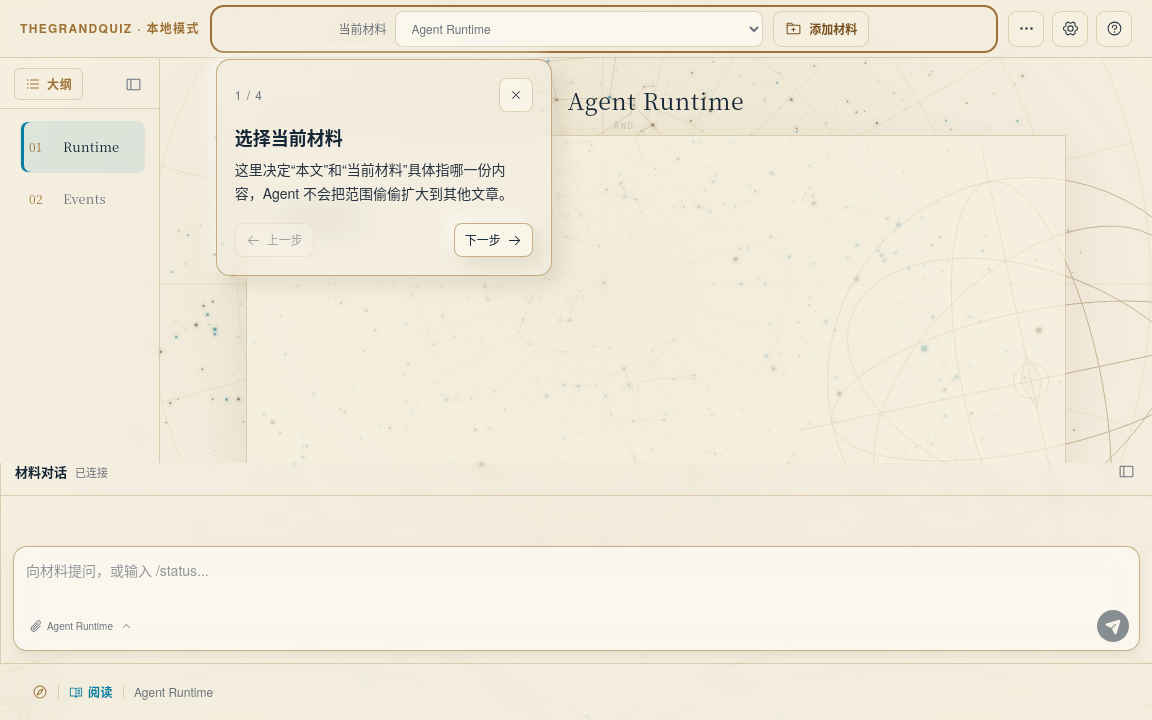
Article Workspace › changes the exact material scope before reading
The width and height of the screenshot is (1152, 720).
(page scrolled)
Expected: the heading "Agent Runtime" is shown, [568,83,744,117]
Step 1. Select "Recovery Design" in the dropdown labelled "当前材料" → (579, 28), box [395,10,763,46]
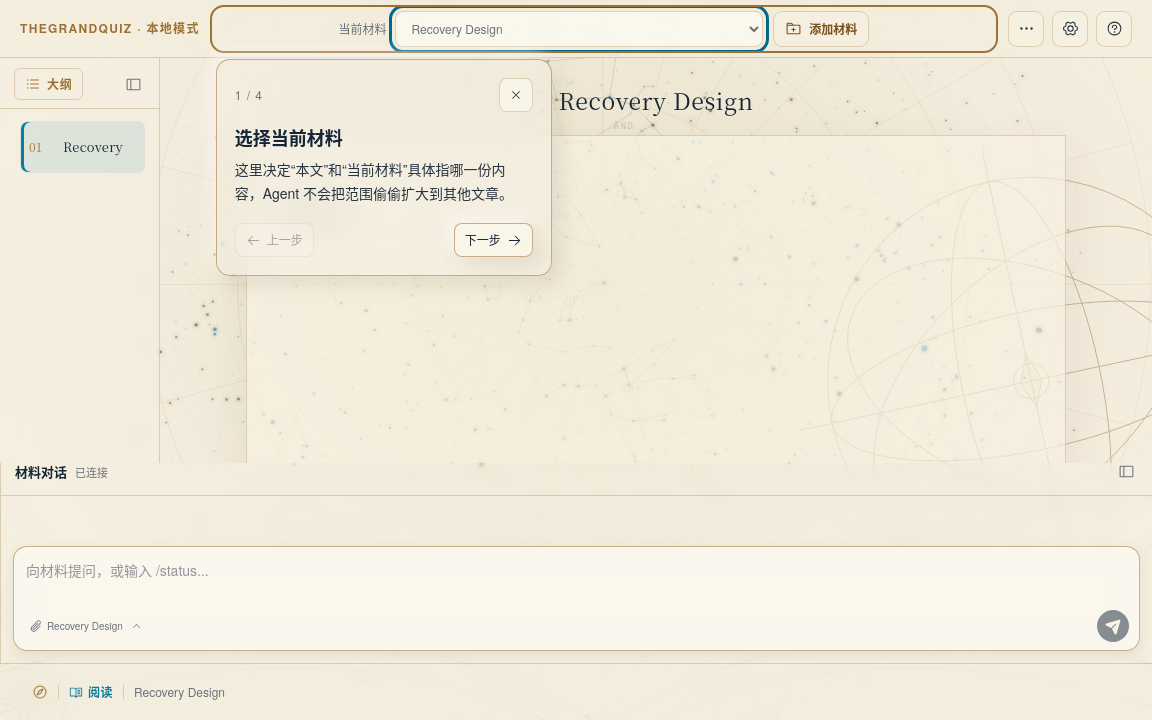
Expected: the heading "Recovery Design" is shown, [558,83,754,117]
Expected: the button "01 Recovery" is shown, [20,121,145,173]
Expected: the button "Events" is gone
